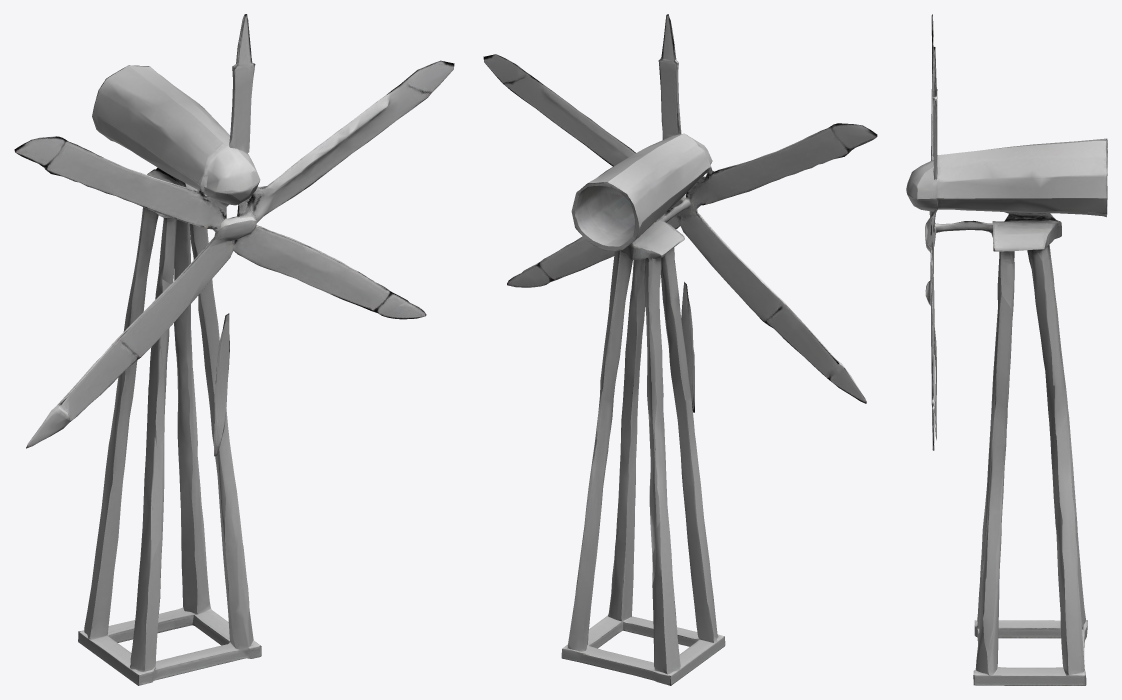
Rendered from windmill_tex.glb.
3 views of the same model, side by side, from view 1: azimuth 30°, elevation 25°; view 2: azimuth 150°, elevation 25°; view 3: azimuth 270°, elevation 25° (orthographic). The views are drawn at different scales.
Visible parts, largest first — view 1: windmill; view 2: windmill; view 3: windmill.
Part boxes in pixels (box(x1,y1,x2,y2)): windmill: box(14, 14, 454, 685); windmill: box(483, 14, 877, 685); windmill: box(906, 14, 1107, 685).
Size of the model in its own units: 0.6889 by 1 by 0.2931.
Materials: 1 (1 with a texture image).
